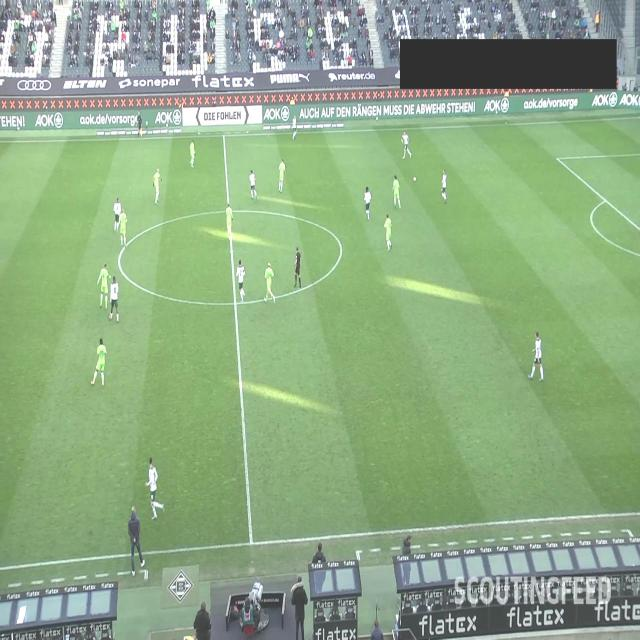player: (144, 456, 164, 521), (528, 331, 544, 382), (91, 338, 107, 387), (97, 263, 111, 309), (108, 274, 120, 322), (264, 262, 276, 304), (236, 258, 246, 302), (118, 208, 128, 247), (152, 167, 162, 205), (392, 174, 402, 210), (383, 213, 392, 251), (401, 130, 412, 160), (278, 158, 286, 193), (113, 197, 121, 232), (364, 186, 372, 220), (226, 202, 233, 240), (249, 169, 257, 200), (441, 168, 447, 204), (190, 139, 196, 168), (292, 115, 297, 140)
referee: (293, 246, 301, 288), (137, 112, 143, 138)
